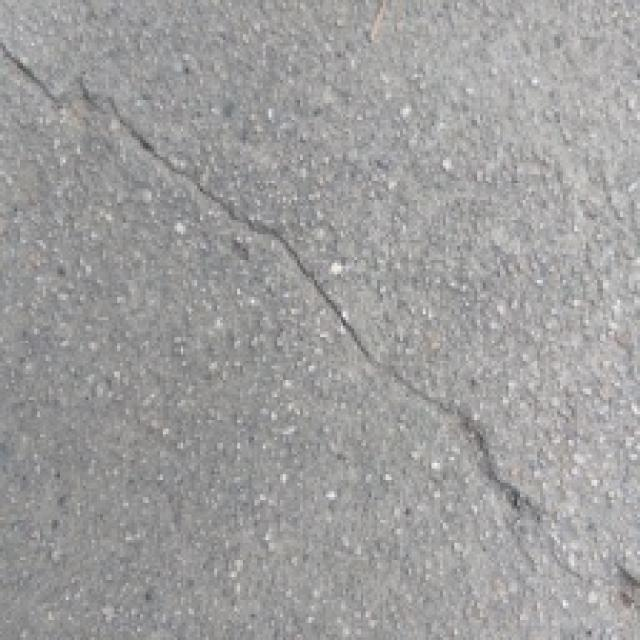crack: (0, 10, 640, 586)
